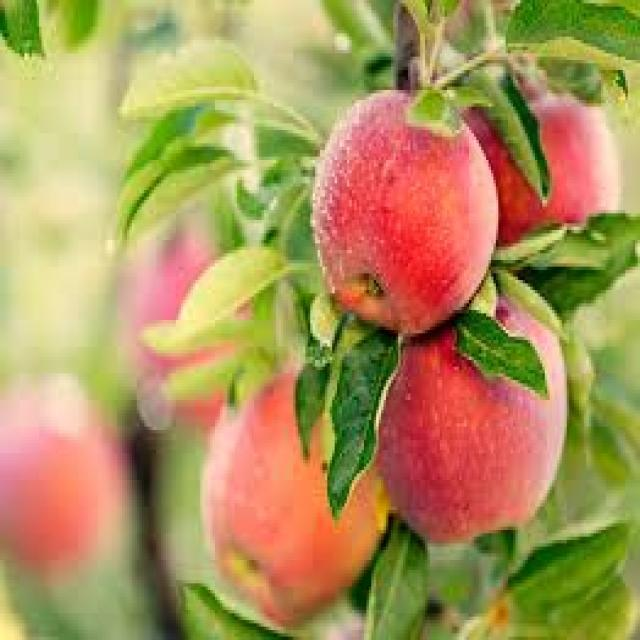Apple: (374, 276, 566, 544), (198, 367, 391, 630), (308, 86, 498, 336), (457, 73, 620, 247), (118, 235, 265, 418)
